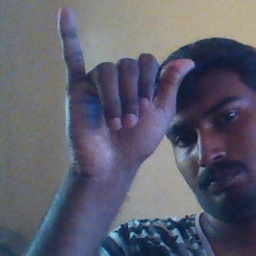J: (55, 8, 197, 169)
